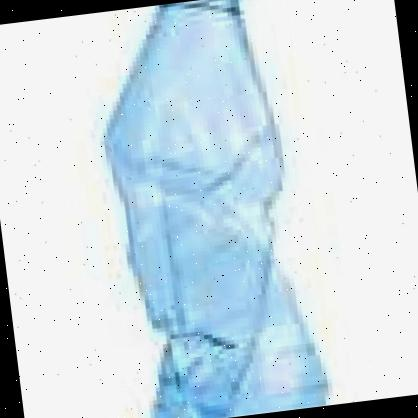bottle: (68, 0, 336, 418)
